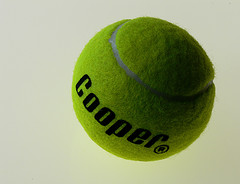tennis ball: (70, 15, 217, 163)
